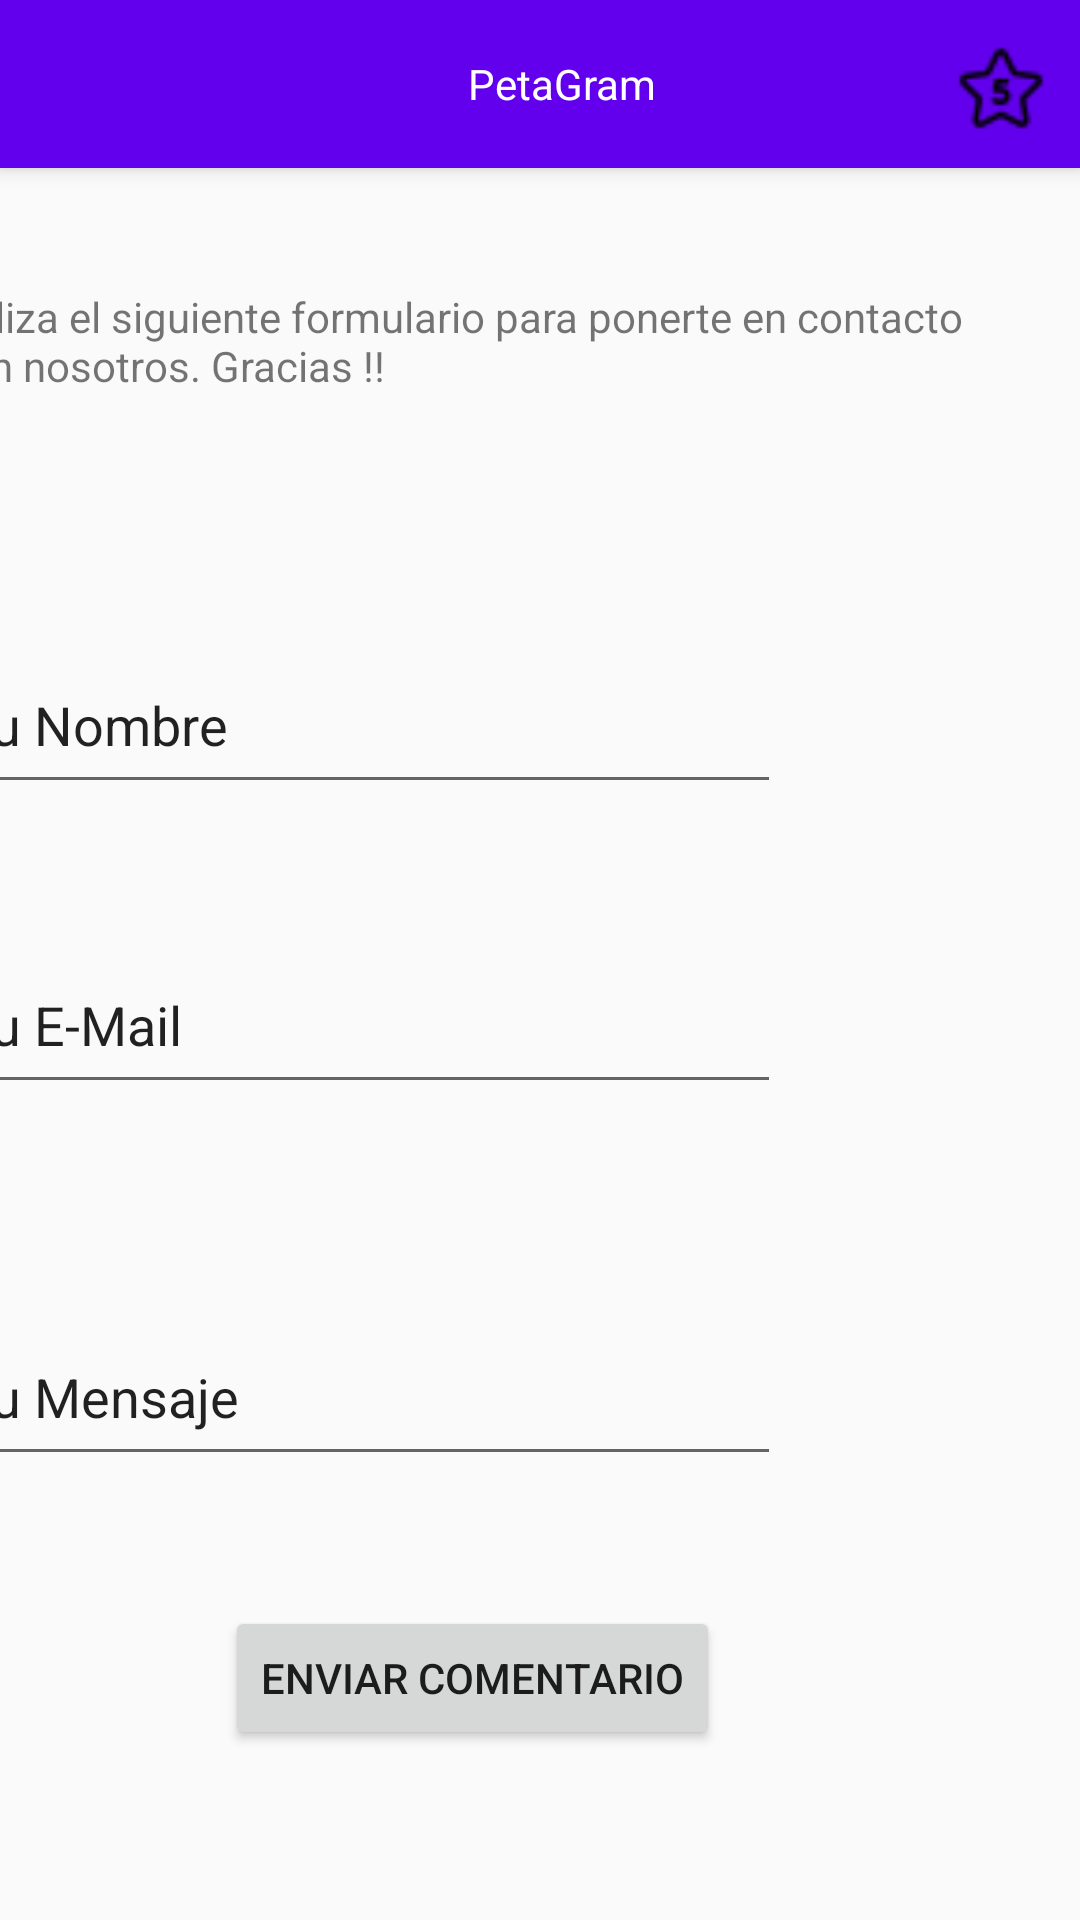

Named icons in this screenshot (1080px×1920px) and their bounding boxes, (x1, y1, x2, y2):
star: (958, 47, 1044, 129)
